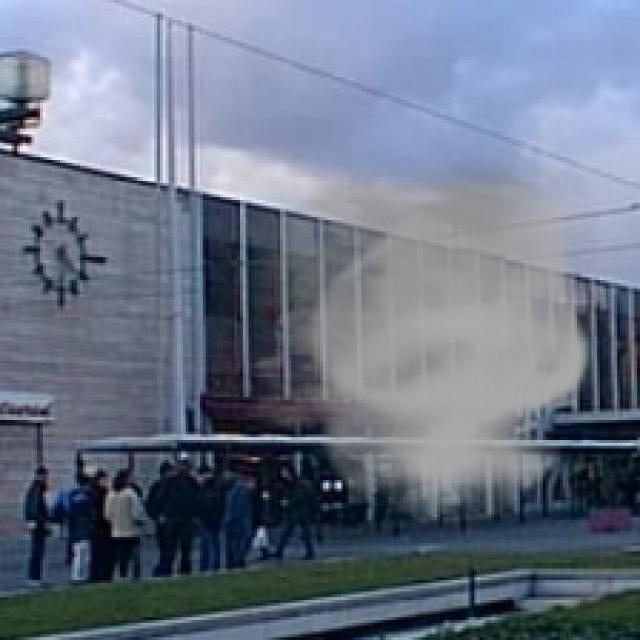Smoke: (205, 148, 598, 523)
